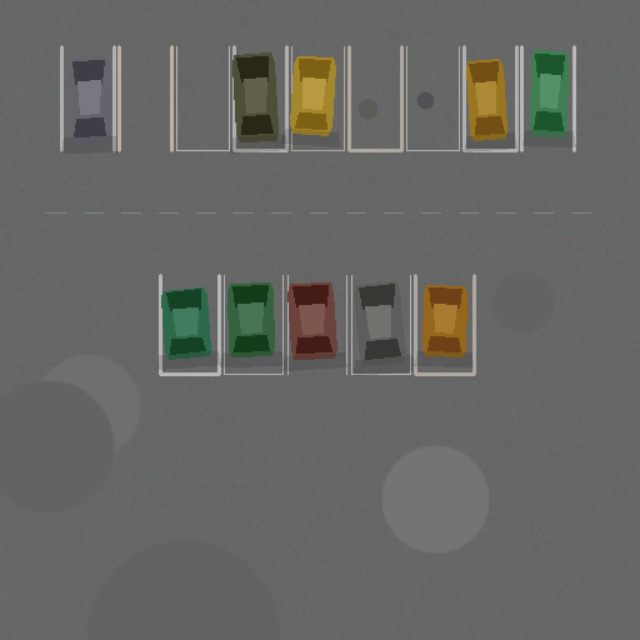space-empty: (176, 46, 229, 150), (406, 46, 459, 150), (119, 46, 171, 150), (349, 46, 401, 150)
space-occupied: (160, 275, 219, 374), (224, 275, 283, 374), (287, 275, 346, 374), (351, 275, 410, 374), (415, 275, 474, 374), (61, 46, 114, 150), (291, 46, 344, 150), (521, 46, 574, 150), (234, 46, 286, 150), (464, 46, 516, 150)
